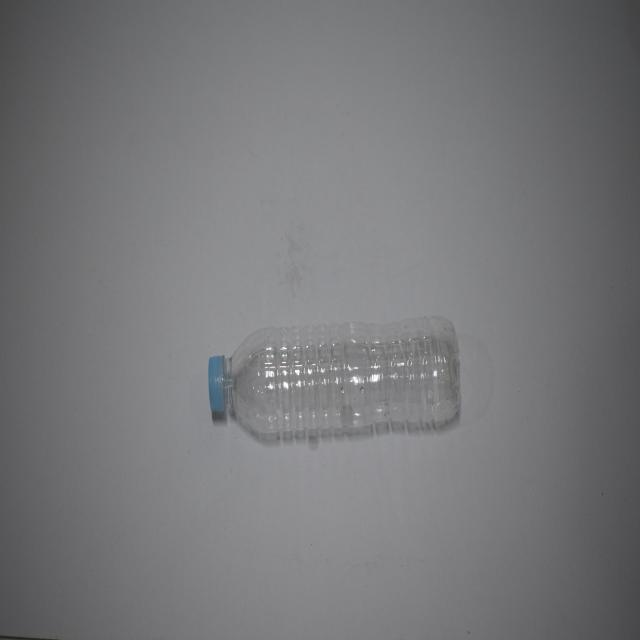empty: (208, 316, 460, 437)
